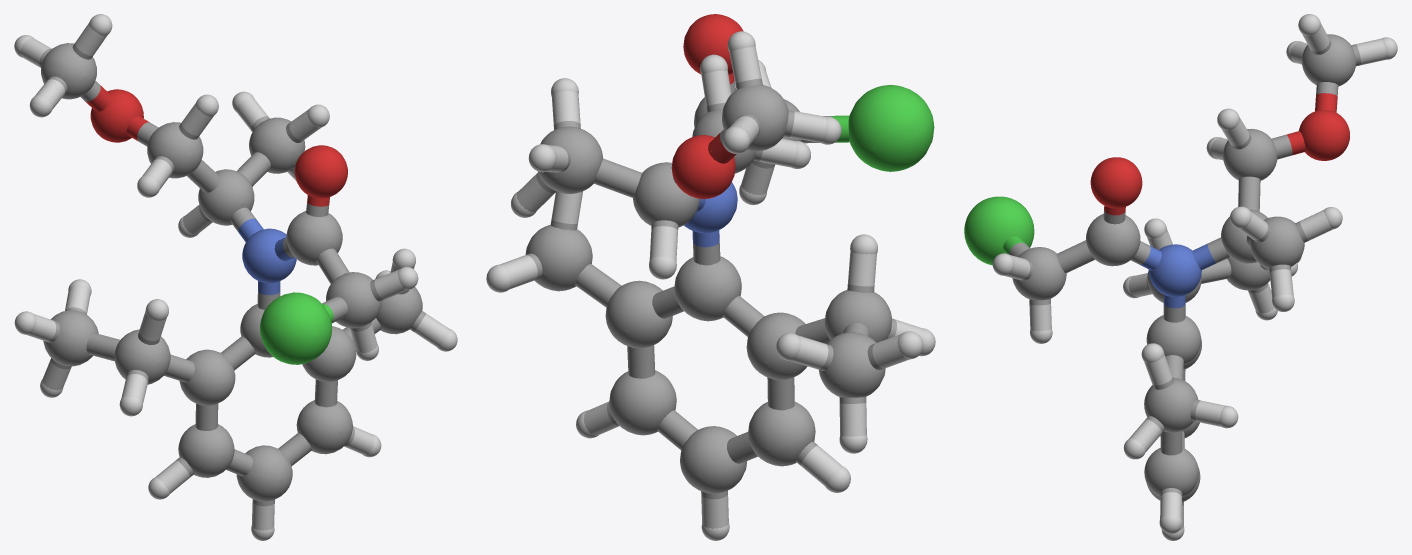
Rendered from Metolachlor_R.fbx.
3 views of the same model, side by side, from view 1: azimuth 30°, elevation 25°; view 2: azimuth 150°, elevation 25°; view 3: azimuth 270°, elevation 25° (orthographic). The views are drawn at different scales.
Parts seen in each view (by area): view 1: Ball_Carbon_SurfSphere.003, Sticks_Cylinder.004_Sticks_Cylinder.002, Sticks_Cylinder_Sticks_Cylinder.002, Ball_Hydrogen_SurfSphere.003, Ball_Chlorine_SurfSphere.004, Ball_Oxygen_SurfSphere.004, Ball_Nitrogen_SurfSphere.004, Sticks_Cylinder.002_Sticks_Cylinder.002, Sticks_Cylinder.001_Sticks_Cylinder.002; view 2: Ball_Carbon_SurfSphere.003, Sticks_Cylinder.004_Sticks_Cylinder.002, Sticks_Cylinder_Sticks_Cylinder.002, Ball_Hydrogen_SurfSphere.003, Ball_Chlorine_SurfSphere.004, Ball_Oxygen_SurfSphere.004, Ball_Nitrogen_SurfSphere.004; view 3: Ball_Carbon_SurfSphere.003, Sticks_Cylinder.004_Sticks_Cylinder.002, Sticks_Cylinder_Sticks_Cylinder.002, Ball_Hydrogen_SurfSphere.003, Ball_Oxygen_SurfSphere.004, Ball_Chlorine_SurfSphere.004, Ball_Nitrogen_SurfSphere.004, Sticks_Cylinder.001_Sticks_Cylinder.002, Sticks_Cylinder.002_Sticks_Cylinder.002.
Part boxes in pixels (x1=…): Ball_Carbon_SurfSphere.003: x1=41, y1=43, x2=422, y2=501; Sticks_Cylinder.004_Sticks_Cylinder.002: x1=20, y1=22, x2=448, y2=530; Sticks_Cylinder_Sticks_Cylinder.002: x1=39, y1=42, x2=426, y2=506; Ball_Hydrogen_SurfSphere.003: x1=14, y1=14, x2=457, y2=540; Ball_Chlorine_SurfSphere.004: x1=260, y1=292, x2=331, y2=364; Ball_Oxygen_SurfSphere.004: x1=90, y1=89, x2=347, y2=198; Ball_Nitrogen_SurfSphere.004: x1=242, y1=228, x2=296, y2=283; Sticks_Cylinder.002_Sticks_Cylinder.002: x1=85, y1=85, x2=329, y2=206; Sticks_Cylinder.001_Sticks_Cylinder.002: x1=238, y1=218, x2=294, y2=295; Ball_Carbon_SurfSphere.003: x1=525, y1=84, x2=892, y2=493; Sticks_Cylinder.004_Sticks_Cylinder.002: x1=500, y1=46, x2=925, y2=528; Sticks_Cylinder_Sticks_Cylinder.002: x1=525, y1=78, x2=896, y2=499; Ball_Hydrogen_SurfSphere.003: x1=486, y1=31, x2=935, y2=540; Ball_Chlorine_SurfSphere.004: x1=848, y1=85, x2=934, y2=171; Ball_Oxygen_SurfSphere.004: x1=671, y1=14, x2=743, y2=199; Ball_Nitrogen_SurfSphere.004: x1=684, y1=182, x2=737, y2=233; Ball_Carbon_SurfSphere.003: x1=1012, y1=34, x2=1355, y2=502; Sticks_Cylinder.004_Sticks_Cylinder.002: x1=1004, y1=24, x2=1386, y2=531; Sticks_Cylinder_Sticks_Cylinder.002: x1=1009, y1=39, x2=1360, y2=505; Ball_Hydrogen_SurfSphere.003: x1=992, y1=14, x2=1397, y2=540; Ball_Oxygen_SurfSphere.004: x1=1090, y1=110, x2=1349, y2=208; Ball_Chlorine_SurfSphere.004: x1=964, y1=196, x2=1034, y2=265; Ball_Nitrogen_SurfSphere.004: x1=1148, y1=244, x2=1201, y2=296; Sticks_Cylinder.001_Sticks_Cylinder.002: x1=1140, y1=244, x2=1216, y2=308; Sticks_Cylinder.002_Sticks_Cylinder.002: x1=1104, y1=93, x2=1337, y2=215.
Bounding box in the file's own units: 787 × 974 × 795.
